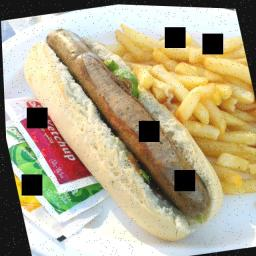hotdog: (38, 6, 214, 242)
